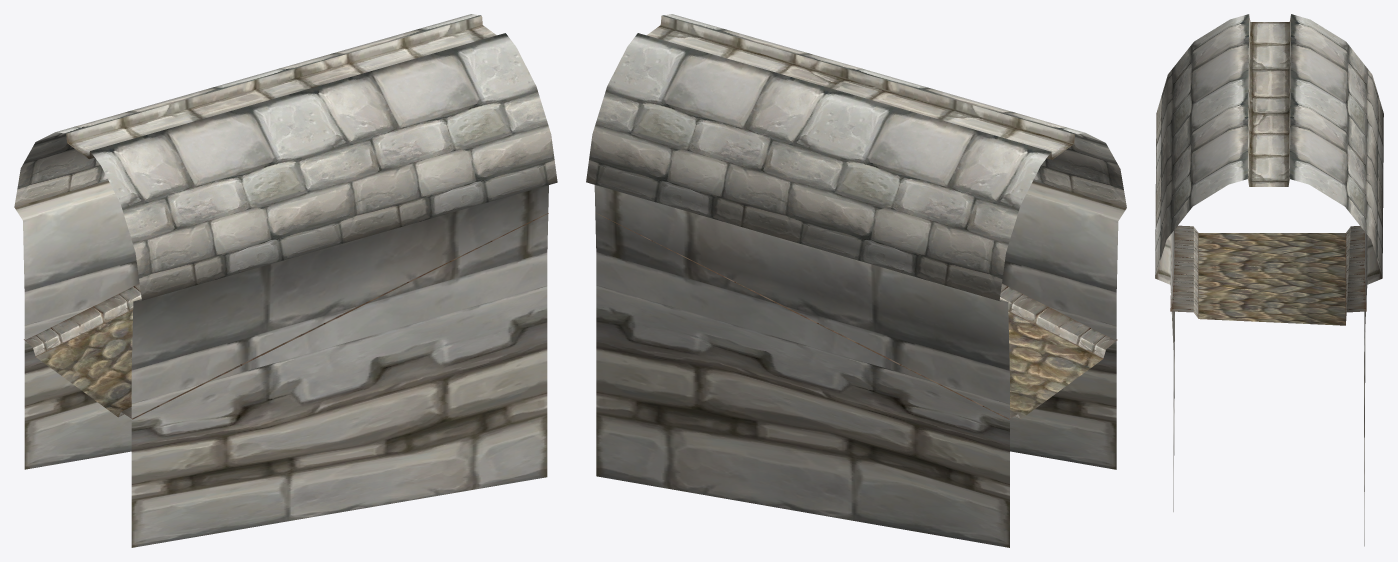
The model's file is stormwind_030.fbx.
The picture shows the model from 3 angles, left to right: view 1: azimuth 30°, elevation 25°; view 2: azimuth 150°, elevation 25°; view 3: azimuth 270°, elevation 25°; orthographic projection. The views are drawn at different scales.
Parts seen in each view (by area): view 1: stormwind_030_11, stormwind_030_4, stormwind_030_5, stormwind_030_46, stormwind_030_12; view 2: stormwind_030_11, stormwind_030_4, stormwind_030_5, stormwind_030_46, stormwind_030_12; view 3: stormwind_030_4, stormwind_030_46, stormwind_030_5, stormwind_030_12, stormwind_030_11.
Part boxes in pixels (<box>): stormwind_030_11: <box>14,180,548,547</box>; stormwind_030_4: <box>14,14,557,300</box>; stormwind_030_5: <box>66,16,496,159</box>; stormwind_030_46: <box>36,310,132,416</box>; stormwind_030_12: <box>24,213,548,419</box>; stormwind_030_11: <box>594,181,1126,547</box>; stormwind_030_4: <box>586,14,1126,300</box>; stormwind_030_5: <box>647,15,1074,159</box>; stormwind_030_46: <box>1008,312,1102,418</box>; stormwind_030_12: <box>595,212,1117,419</box>; stormwind_030_4: <box>1155,14,1383,277</box>; stormwind_030_46: <box>1198,233,1345,325</box>; stormwind_030_5: <box>1248,14,1290,186</box>; stormwind_030_12: <box>1170,225,1366,325</box>; stormwind_030_11: <box>1155,230,1382,546</box>.
Size of the model in its own units: 18.91 by 18.01 by 10.12.
